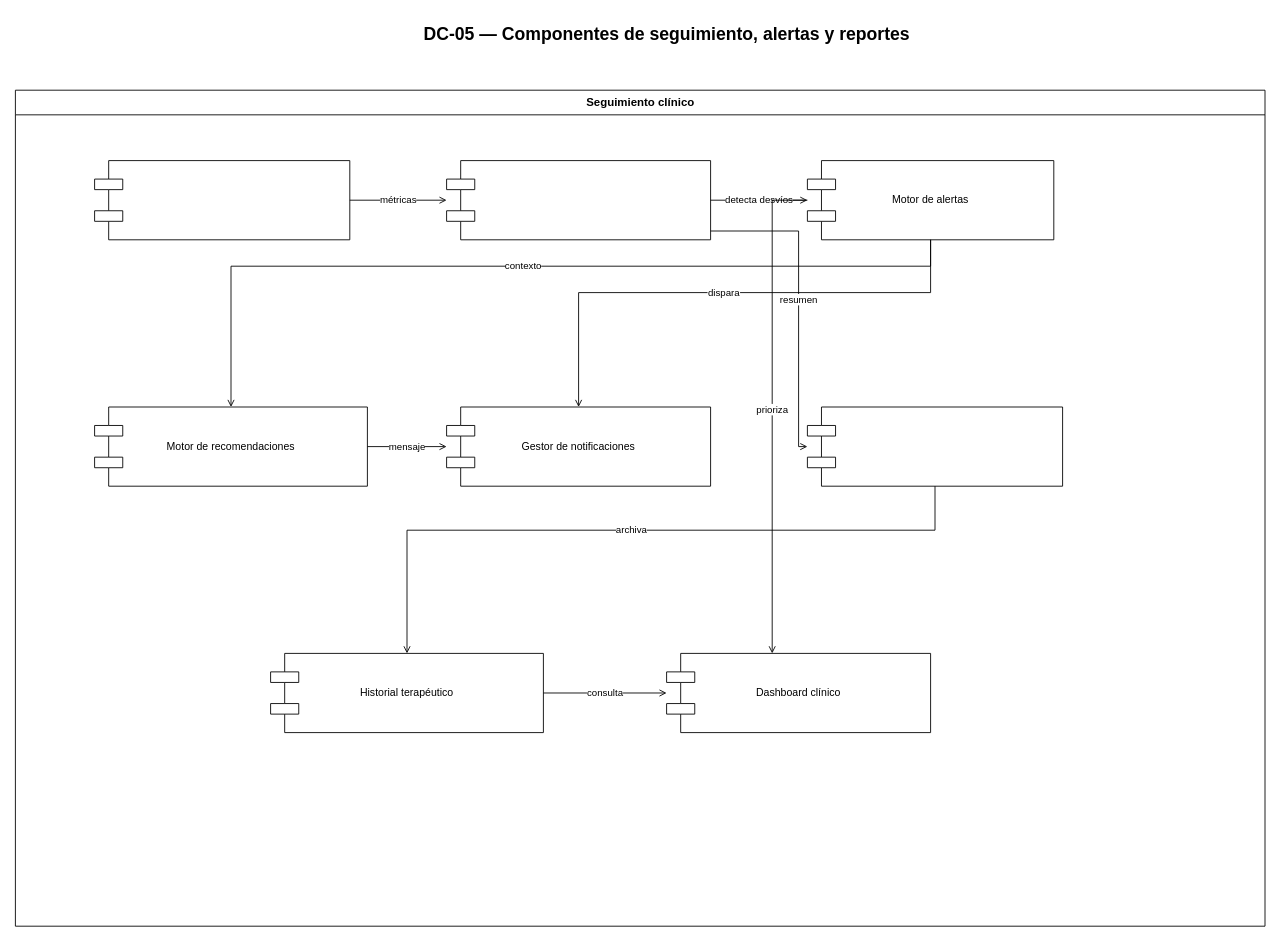
The diagram is 1280 pixels wide and 942 high, and some of its shapes have lost their labels. Here are the shapes that lost their labels. From the top down, the box of each, then its label:
(94, 160, 350, 240): Recolector de indicadores
(446, 160, 711, 240): Analizador de progreso
(807, 406, 1063, 486): Generador de reportes
